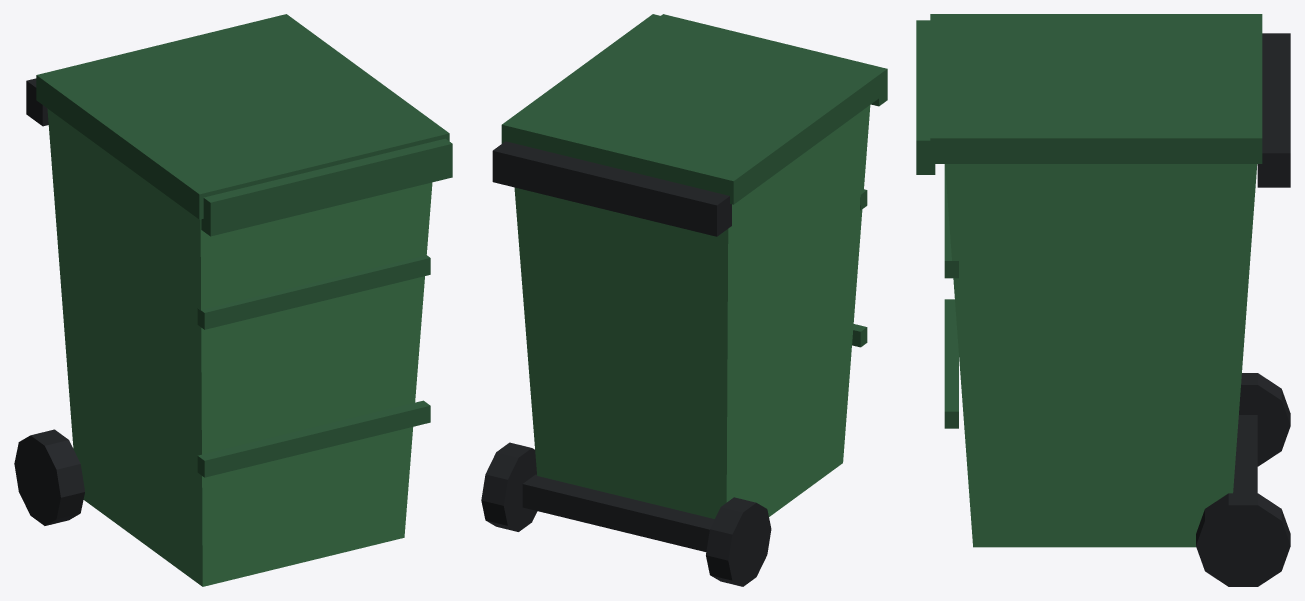
The model's file is prop_trashcan.glb.
The picture shows the model from 3 angles, left to right: view 1: azimuth 30°, elevation 25°; view 2: azimuth 150°, elevation 25°; view 3: azimuth 270°, elevation 25°; orthographic projection. The views are drawn at different scales.
Visible parts, largest first — view 1: prop_trashcan; view 2: prop_trashcan; view 3: prop_trashcan.
Part boxes in pixels (x1,y1,x2,y2): prop_trashcan: (14, 14, 452, 586); prop_trashcan: (481, 14, 887, 586); prop_trashcan: (916, 14, 1290, 586).
Size of the model in its own units: 0.66 by 1.04 by 0.79.
